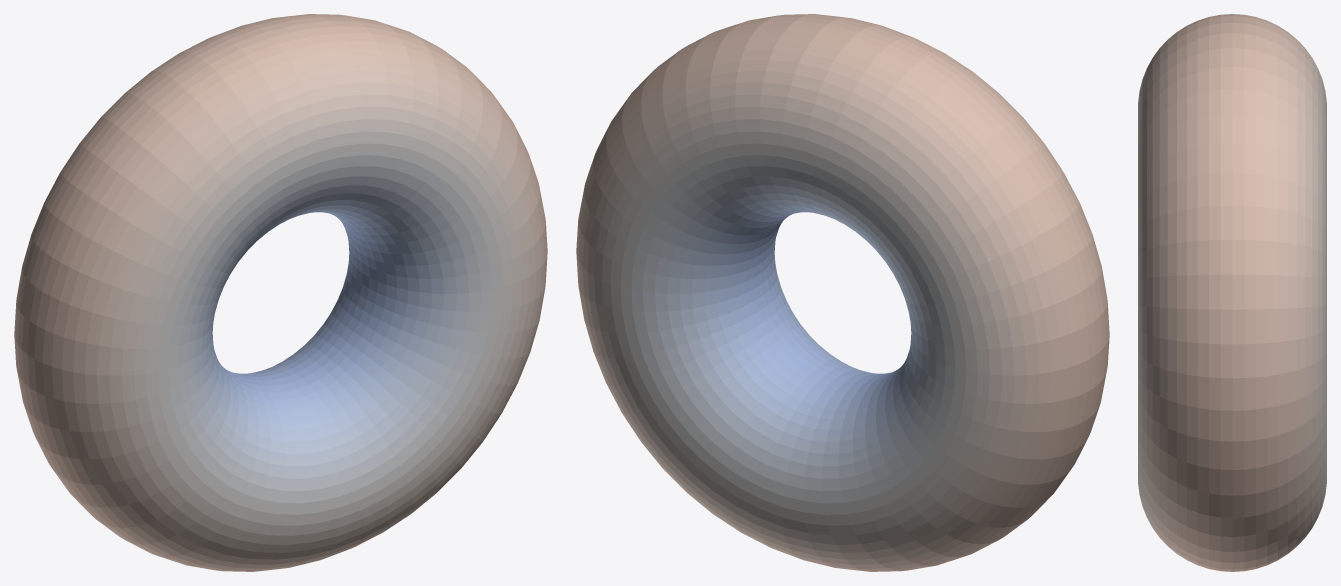
3 views of the same model, side by side, from view 1: azimuth 30°, elevation 25°; view 2: azimuth 150°, elevation 25°; view 3: azimuth 270°, elevation 25° (orthographic). The views are drawn at different scales.
Visible parts, largest first — view 1: world; view 2: world; view 3: world.
Part boxes in pixels (x1,y1,x2,y2): world: [14, 14, 547, 571]; world: [576, 14, 1109, 571]; world: [1138, 14, 1326, 571].
Bounding box in the file's own units: 23.2 × 23.15 × 7.85.
